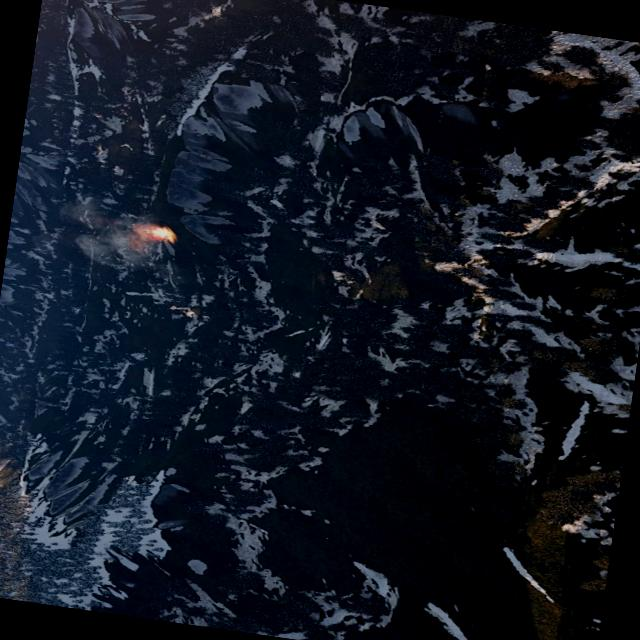fire: (146, 222, 177, 242)
smoke: (54, 192, 162, 272)
